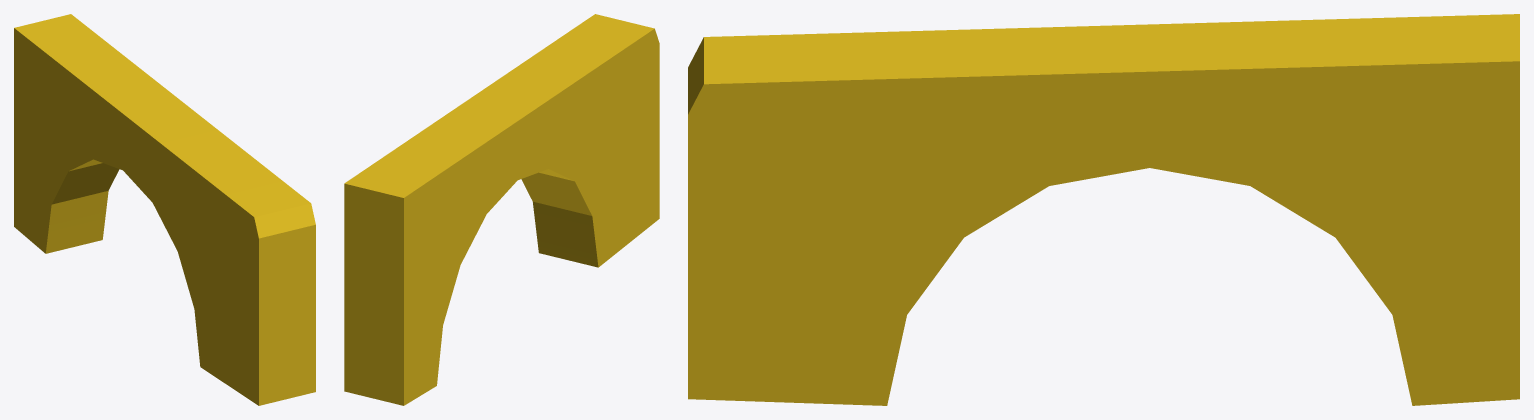
File: vortex_r_fender_left.glb
3 renders of one model, left to right at view 1: azimuth 30°, elevation 25°; view 2: azimuth 150°, elevation 25°; view 3: azimuth 270°, elevation 25°, orthographic. The views are drawn at different scales.
Visible parts, largest first — view 1: vortex_r_fender_left; view 2: vortex_r_fender_left; view 3: vortex_r_fender_left.
Part boxes in pixels (bbox=[...]): vortex_r_fender_left: bbox=[14, 14, 315, 405]; vortex_r_fender_left: bbox=[344, 14, 659, 405]; vortex_r_fender_left: bbox=[688, 14, 1519, 405].
Size of the model in its own units: 0.1688 by 0.5735 by 1.25.
